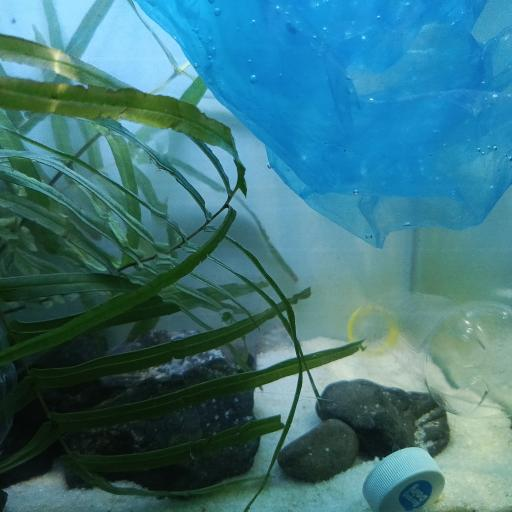bottle_cap: (362, 446, 446, 512)
plastic_bag: (134, 0, 512, 244)
plastic_bottle: (347, 290, 512, 418)
